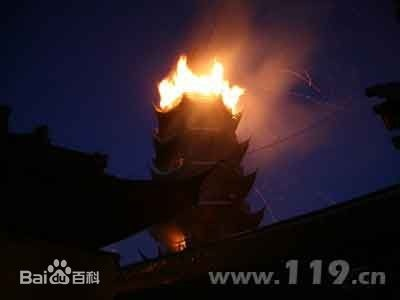fire: (154, 54, 249, 115)
